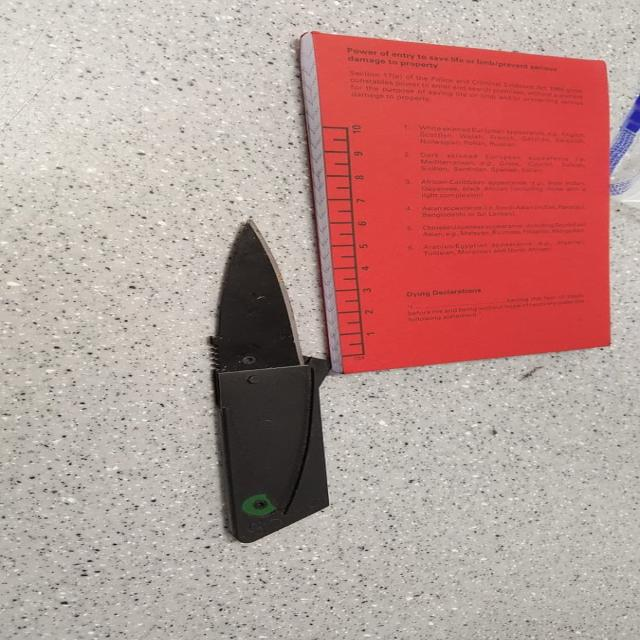Sharp-Object: (210, 218, 329, 546)
